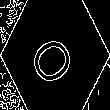O_NE: (27, 24, 83, 86)
